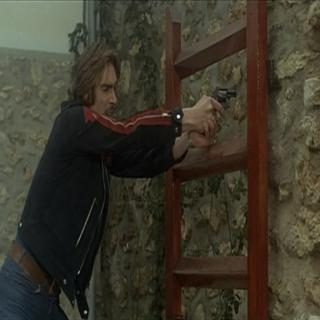gun: (203, 85, 239, 143)
